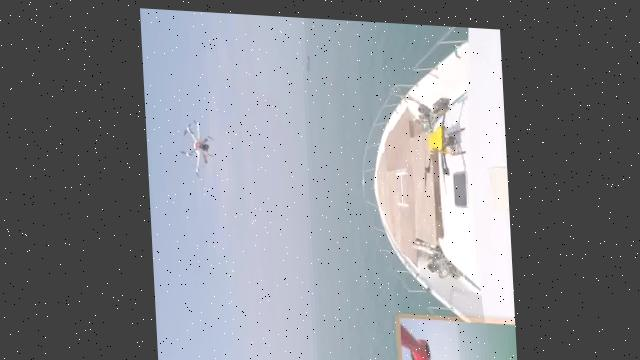drone: (176, 117, 217, 171)
